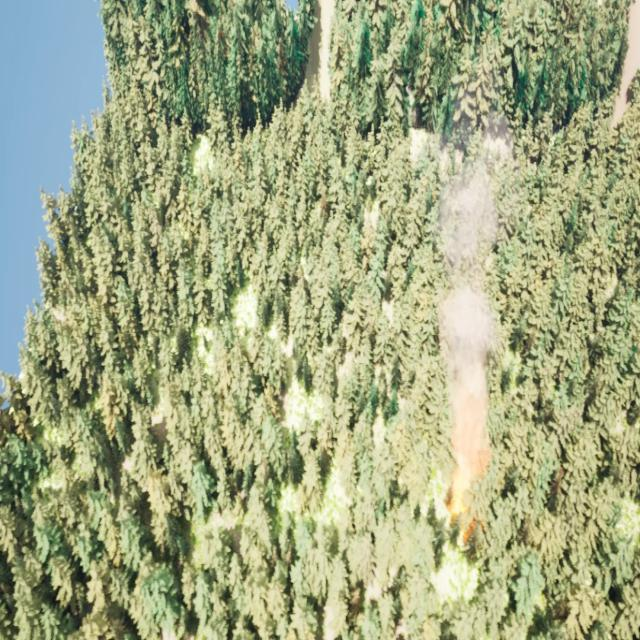fire: (444, 457, 490, 553)
smoke: (436, 106, 520, 456)
